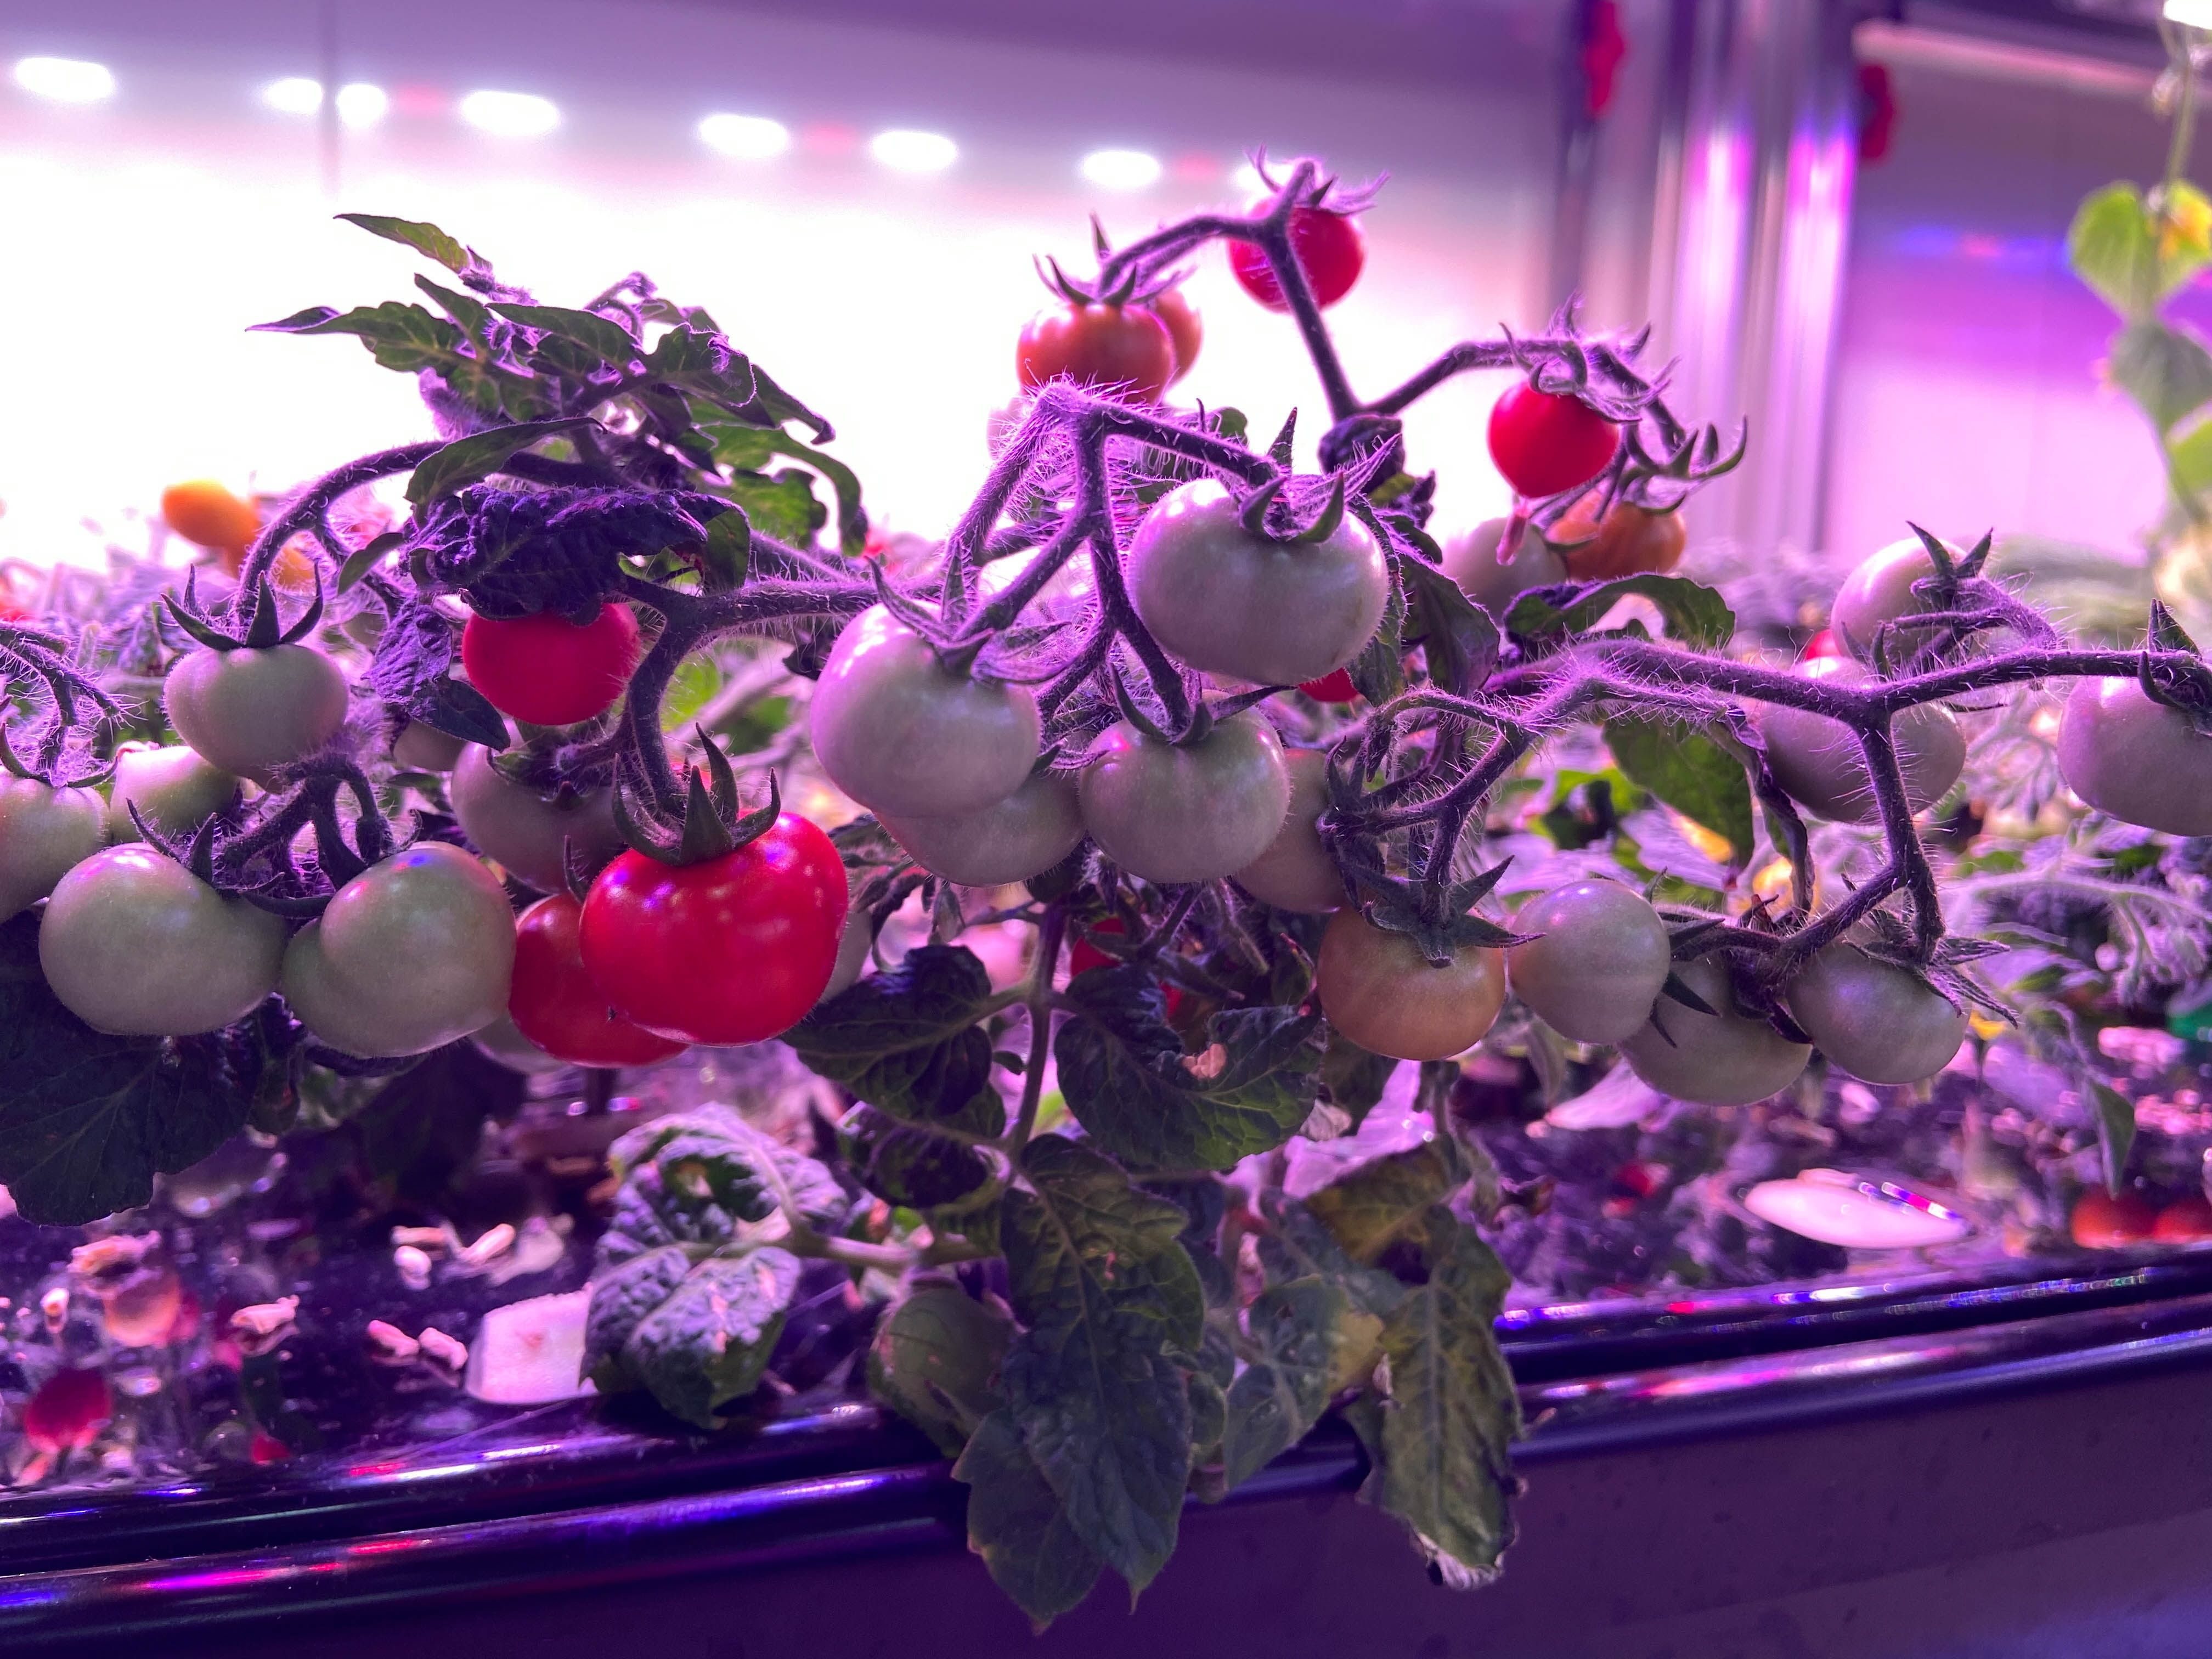green: (1122, 474, 1390, 688), (37, 838, 289, 1040), (805, 619, 1043, 831), (284, 833, 507, 1051), (1076, 699, 1285, 885), (1759, 667, 1968, 835), (1634, 904, 1803, 1108), (1500, 864, 1674, 1046), (1784, 925, 1972, 1091), (2048, 662, 2210, 838), (446, 732, 620, 889), (165, 634, 354, 775), (892, 758, 1087, 889), (1224, 742, 1372, 913), (1834, 533, 1982, 664), (2, 756, 115, 924), (99, 734, 237, 843), (1564, 481, 1693, 586), (1440, 519, 1559, 619), (387, 709, 465, 775)
red: (577, 809, 855, 1049), (1310, 880, 1515, 1061), (493, 880, 676, 1068), (453, 568, 646, 728), (1010, 298, 1176, 423), (1224, 195, 1369, 321), (1486, 369, 1625, 498), (1068, 911, 1191, 1035), (1113, 279, 1214, 389), (1299, 645, 1418, 706), (1801, 622, 1858, 676)
